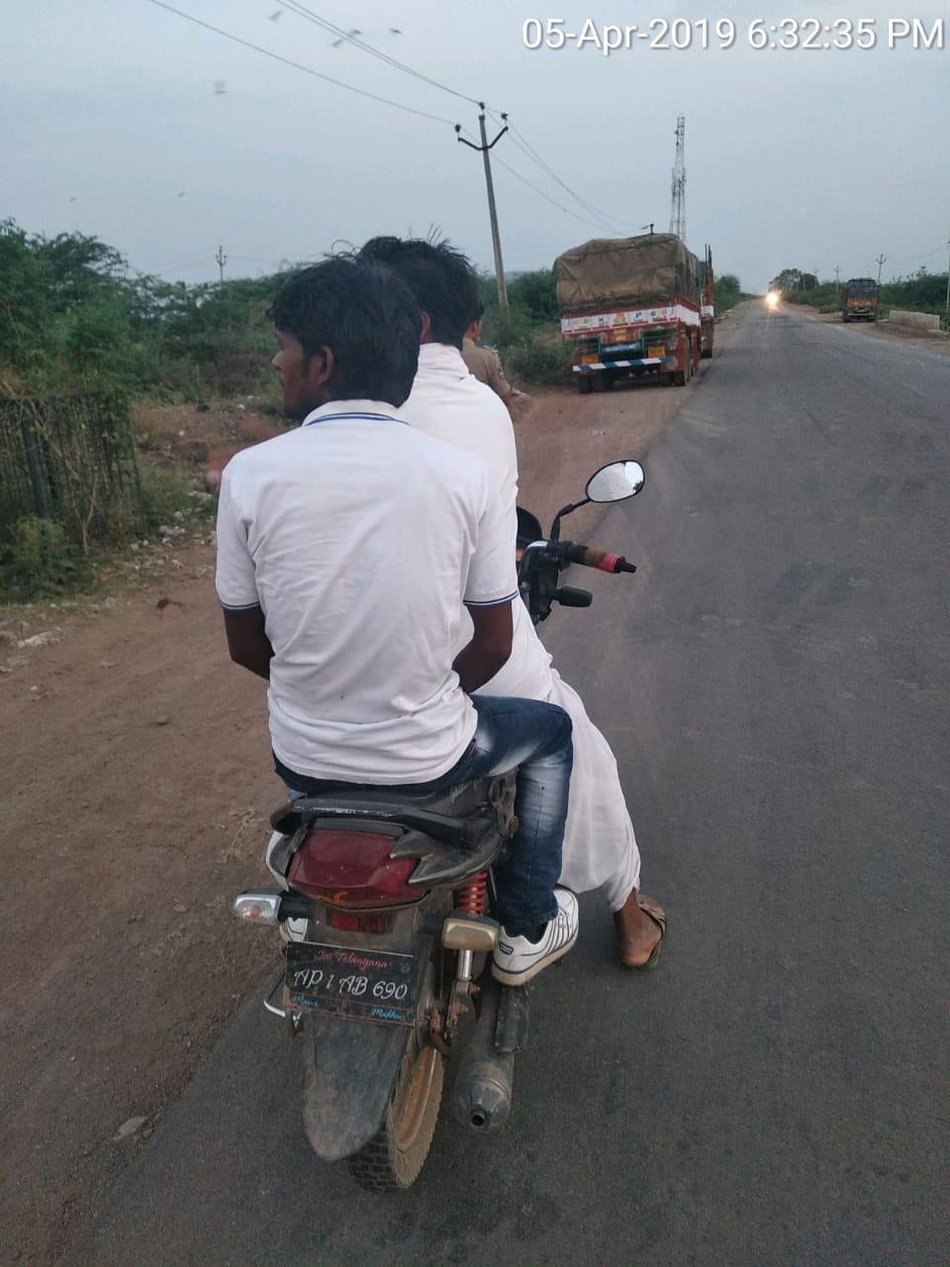without_helmet: (180, 210, 680, 1214)
